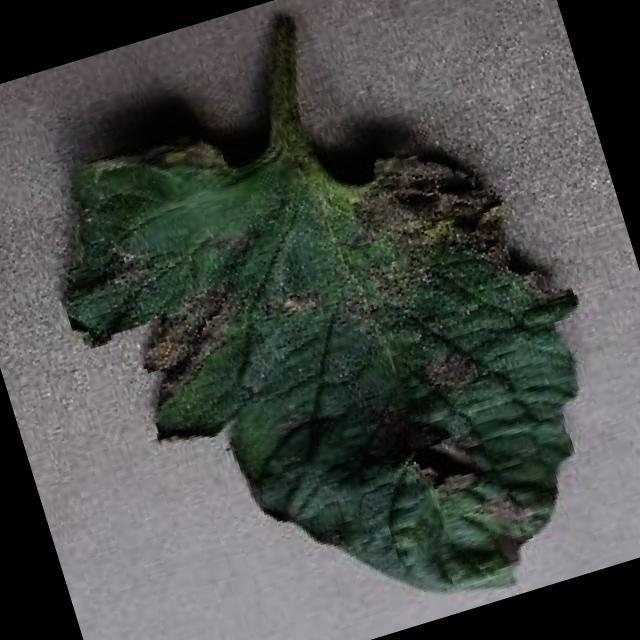Tomato Early blight leaf: (22, 35, 640, 640)
